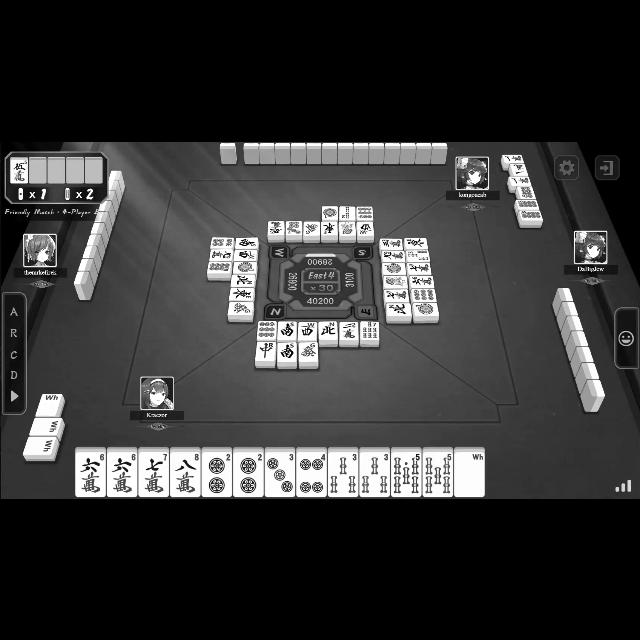1m: (502, 154, 524, 162), (510, 176, 530, 184), (512, 163, 526, 174)
1p: (412, 303, 438, 315), (234, 260, 256, 272), (382, 262, 404, 274), (322, 205, 338, 219)
1s: (384, 274, 408, 288), (340, 221, 354, 235)
2m: (341, 322, 359, 341)
2p: (202, 451, 232, 495), (234, 452, 264, 496)
2s: (340, 204, 354, 220)
3m: (380, 238, 402, 248)
3p: (266, 452, 294, 496)
3s: (328, 451, 358, 495), (361, 452, 389, 494), (405, 250, 429, 260)
4p: (298, 452, 326, 496)
5m: (10, 158, 28, 182), (268, 220, 284, 236)
5s: (423, 450, 452, 496), (394, 451, 421, 495)
6m: (108, 452, 138, 496), (76, 452, 104, 496), (411, 274, 434, 286)
6p: (212, 236, 234, 248)
7m: (139, 452, 169, 496), (407, 262, 431, 274), (386, 289, 408, 301)
7p: (286, 220, 302, 234)
7s: (362, 320, 378, 338)
8m: (172, 452, 200, 496)
8p: (520, 208, 542, 220), (210, 262, 230, 272), (516, 200, 540, 208), (520, 186, 534, 198)
9m: (210, 248, 232, 260), (382, 250, 404, 262)
9p: (258, 320, 276, 338), (412, 288, 436, 300), (358, 206, 372, 218)
chun: (258, 342, 274, 361)
haku: (455, 450, 485, 496), (32, 417, 62, 435), (26, 437, 54, 455), (41, 393, 61, 417)
hatsu: (298, 342, 318, 362), (230, 302, 253, 314), (304, 220, 320, 236)
nan: (278, 342, 296, 361), (278, 322, 296, 338), (236, 236, 258, 248)
pe: (319, 322, 337, 341), (386, 302, 410, 316), (231, 274, 255, 286)
sha: (300, 321, 316, 339), (234, 248, 256, 260), (356, 222, 374, 236)
tou: (230, 287, 253, 299), (322, 220, 336, 236), (406, 237, 426, 247)
